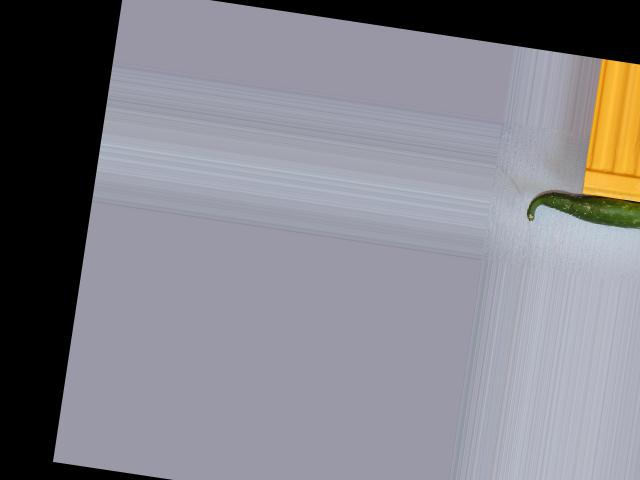cucumber: (525, 185, 640, 241)
